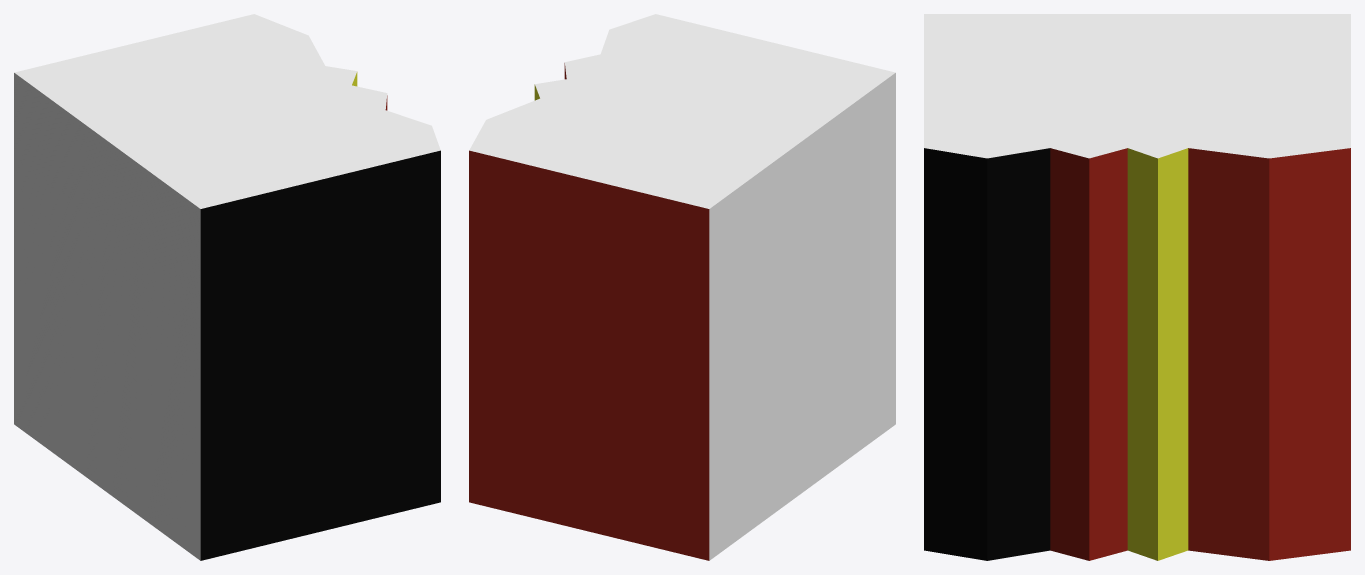
File: SM_BookBlock.fbx
The picture shows the model from 3 angles, left to right: view 1: azimuth 30°, elevation 25°; view 2: azimuth 150°, elevation 25°; view 3: azimuth 270°, elevation 25°; orthographic projection. The views are drawn at different scales.
Visible parts, largest first — view 1: SM_BookBlock; view 2: SM_BookBlock; view 3: SM_BookBlock.
Part boxes in pixels (x1,y1,x2,y2): SM_BookBlock: (14, 14, 440, 560); SM_BookBlock: (469, 14, 895, 560); SM_BookBlock: (924, 14, 1350, 560).
Size of the model in its own units: 10.61 by 13.78 by 13.24.
